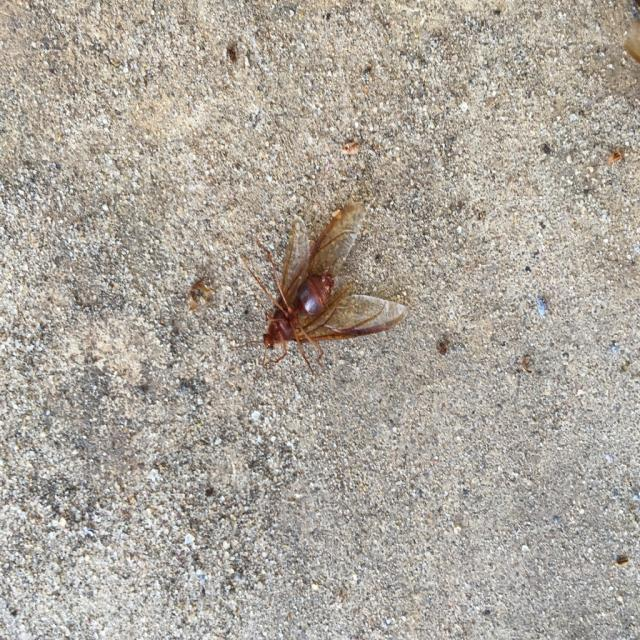Alive-Male-Alate: (231, 202, 408, 386)
